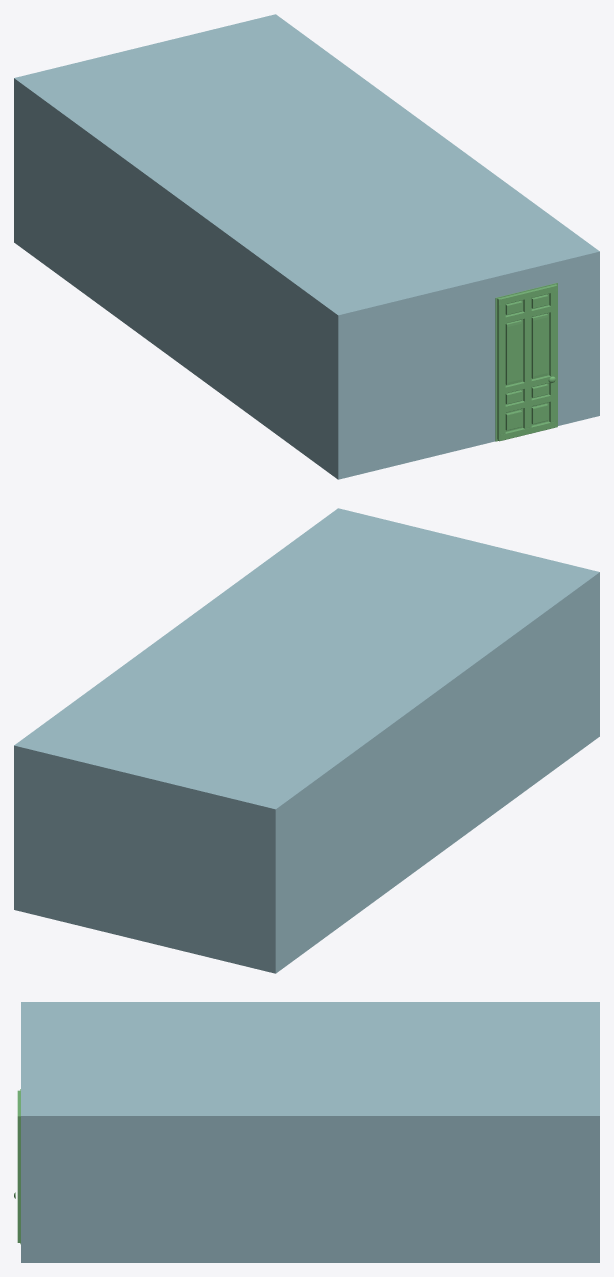
The model's file is Room 6.glb.
3 renders of one model, top to bottom at view 1: azimuth 30°, elevation 25°; view 2: azimuth 150°, elevation 25°; view 3: azimuth 270°, elevation 25°, orthographic. The views are drawn at different scales.
Parts seen in each view (by area): view 1: Mesh_Mesh_head_geo.001_lambert2SG.001; view 2: Mesh_Mesh_head_geo.001_lambert2SG.001; view 3: Mesh_Mesh_head_geo.001_lambert2SG.001.
Boxes of the visible parts, x1=… form: Mesh_Mesh_head_geo.001_lambert2SG.001: x1=14, y1=14, x2=599, y2=479; Mesh_Mesh_head_geo.001_lambert2SG.001: x1=14, y1=508, x2=599, y2=973; Mesh_Mesh_head_geo.001_lambert2SG.001: x1=14, y1=1002, x2=599, y2=1262.
Size of the model in its own units: 20 by 12 by 43.41.
